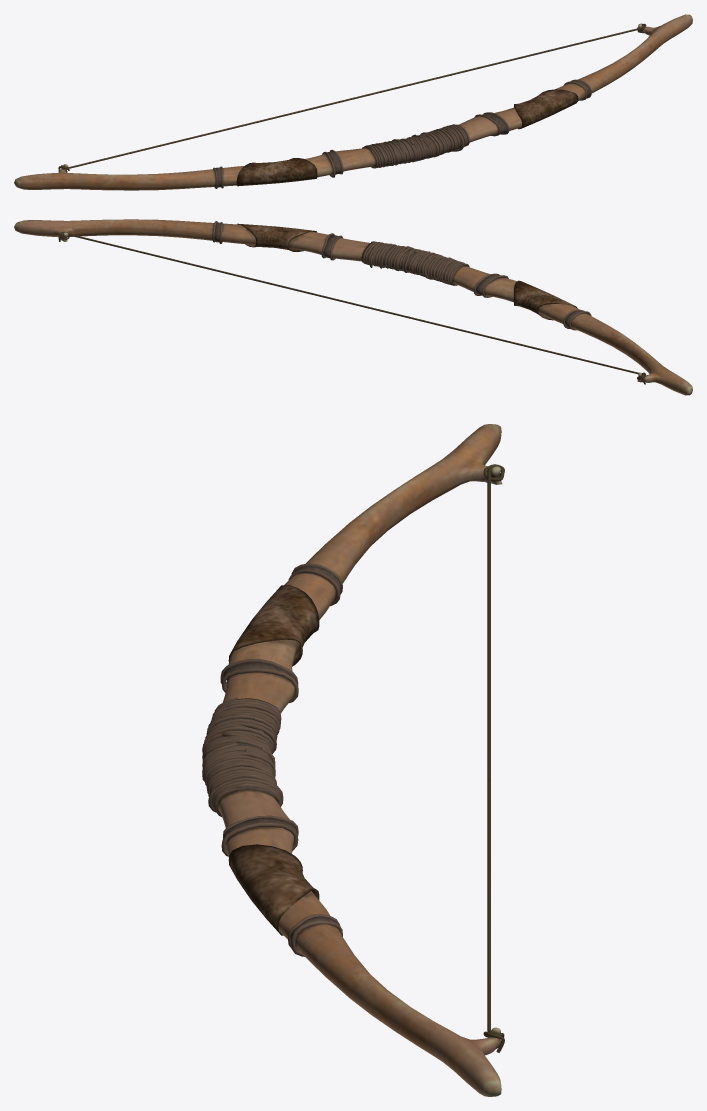
File: bow-wind.glb
The picture shows the model from 3 angles, top to bottom: view 1: azimuth 30°, elevation 25°; view 2: azimuth 150°, elevation 25°; view 3: azimuth 270°, elevation 25°; orthographic projection. The views are drawn at different scales.
Visible parts, largest first — view 1: plank_0, rope_2, stripe_1; view 2: plank_0, rope_2, stripe_1; view 3: plank_0, rope_2, stripe_1.
Boxes of the visible parts, left/top/right/bottom form: plank_0: left=14, top=14, right=692, bottom=190; rope_2: left=213, top=79, right=591, bottom=188; stripe_1: left=58, top=23, right=646, bottom=172; plank_0: left=14, top=219, right=692, bottom=395; rope_2: left=212, top=221, right=591, bottom=330; stripe_1: left=58, top=231, right=646, bottom=384; plank_0: left=203, top=424, right=502, bottom=1096; rope_2: left=202, top=563, right=342, bottom=956; stripe_1: left=483, top=464, right=504, bottom=1052.
Bounding box in the file's own units: 4.28 × 0.134 × 0.83.
Materials: 1 (1 with a texture image).
